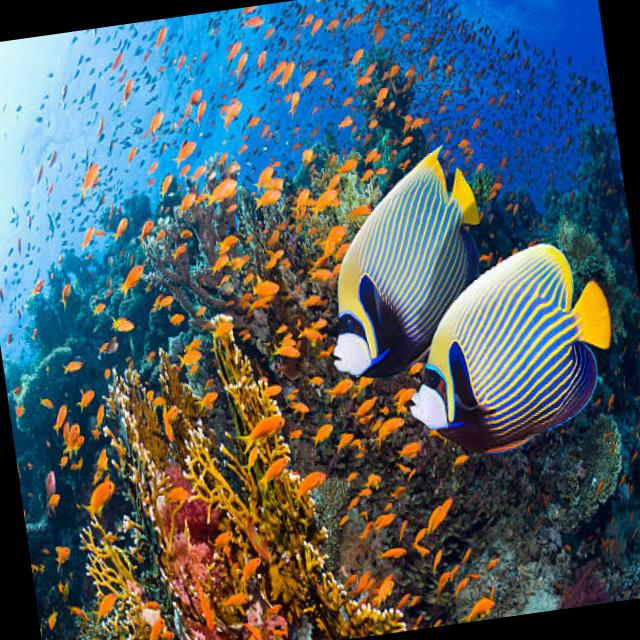AngelFish: (391, 239, 627, 464), (307, 140, 500, 382)
